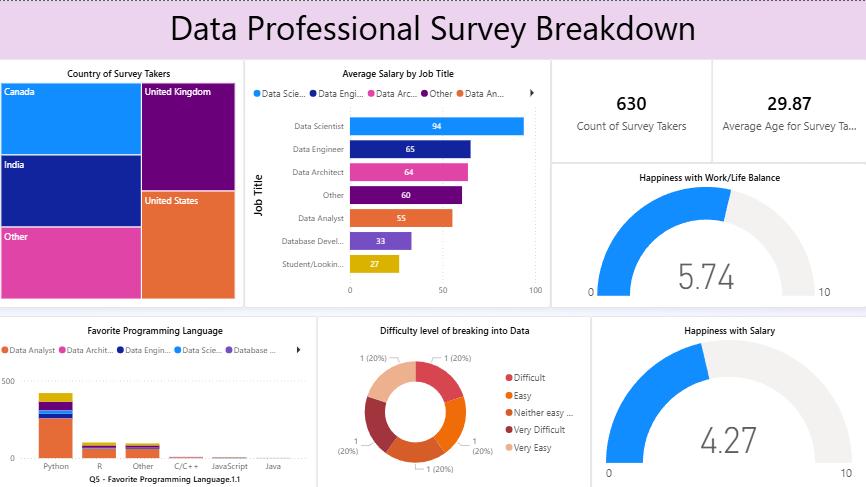

This screenshot's page, from the dashboard's own definition file:
{"tool":"powerbi","page":{"name":"Survey Breakdown","canvas":[1280,720],"ordinal":0},"visuals":[{"type":"textbox","box":[10.2,0,1270.2,84.9],"z":0},{"type":"card","fields":{"Values":["Count(Data Professional Survey.Unique ID)"]},"box":[818,84.9,235.6,152.2],"z":1000},{"type":"card","fields":{"Values":["Avg(Data Professional Survey.Q10 - Current Age)"]},"box":[1053.7,84.9,226.8,152.2],"z":2000},{"type":"barChart","title":"Average Salary by Job Title","fields":{"Y":["Avg(Data Professional Survey.Average Salary)"],"Series":["Data Professional Survey.Q1 - Which Title Best Fits your Current Role?.1"],"Category":["Data Professional Survey.Q1 - Which Title Best Fits your Current Role?.1"]},"box":[368.8,84.9,449.3,364.4],"z":3000},{"type":"columnChart","title":"Favorite Programming Language","fields":{"Category":["Data Professional Survey.Q5 - Favorite Programming Language.1.1"],"Y":["Count(Data Professional Survey.Unique ID)"],"Series":["Data Professional Survey.Q1 - Which Title Best Fits your Current Role?.1"]},"box":[0,461,475.6,259],"z":4000},{"type":"treemap","title":"Country of Survey Takers","fields":{"Group":["Data Professional Survey.Q11 - Which Country do you live in?.1"],"Values":["Count(Data Professional Survey.Q11 - Which Country do you live in?.1)"]},"box":[0,84.9,368.8,364.4],"z":5000},{"type":"gauge","title":"Happiness with Work/Life Balance","fields":{"Y":["Avg(Data Professional Survey.Q6 - How Happy are you in your Current Position with the following? (Work/Life Balance))"],"MinValue":["Min(Data Professional Survey.Q6 - How Happy are you in your Current Position with the following? (Work/Life Balance))1"],"MaxValue":["Max(Data Professional Survey.Q6 - How Happy are you in your Current Position with the following? (Work/Life Balance))2"]},"box":[818,237.1,462.4,212.2],"z":6000},{"type":"gauge","title":"Happiness with Salary","fields":{"Y":["Avg(Data Professional Survey.Q6 - How Happy are you in your Current Position with the following? (Salary))"],"MinValue":["Min(Data Professional Survey.Q6 - How Happy are you in your Current Position with the following? (Salary))1"],"MaxValue":["Max(Data Professional Survey.Q6 - How Happy are you in your Current Position with the following? (Salary))2"]},"box":[876.6,461,403.9,259],"z":7000},{"type":"donutChart","fields":{"Category":["Data Professional Survey.Q7 - How difficult was it for you to break into Data?"],"Y":["Count(Data Professional Survey.Q7 - How difficult was it for you to break into Data?)"]},"box":[475.6,461,401,259],"z":7001}]}

Visuals, with their boxes in screenshot pixels (x1, y1, x2, y2), scaled from the page's 1280x720 canvas onto the 866x487 screenshot:
textbox: <region>7, 0, 865, 57</region>
card - Count(Data Professional Survey.Unique ID): <region>553, 57, 713, 160</region>
card - Avg(Data Professional Survey.Q10 - Current Age): <region>713, 57, 865, 160</region>
"Average Salary by Job Title" barChart: <region>250, 57, 553, 304</region>
"Favorite Programming Language" columnChart: <region>0, 312, 322, 486</region>
"Country of Survey Takers" treemap: <region>0, 57, 250, 304</region>
"Happiness with Work/Life Balance" gauge: <region>553, 160, 865, 304</region>
"Happiness with Salary" gauge: <region>593, 312, 865, 486</region>
donutChart - Data Professional Survey.Q7 - How difficult was it for you to break into Data? x Count(Data Professional Survey.Q7 - How difficult was it for you to break into Data?): <region>322, 312, 593, 486</region>
